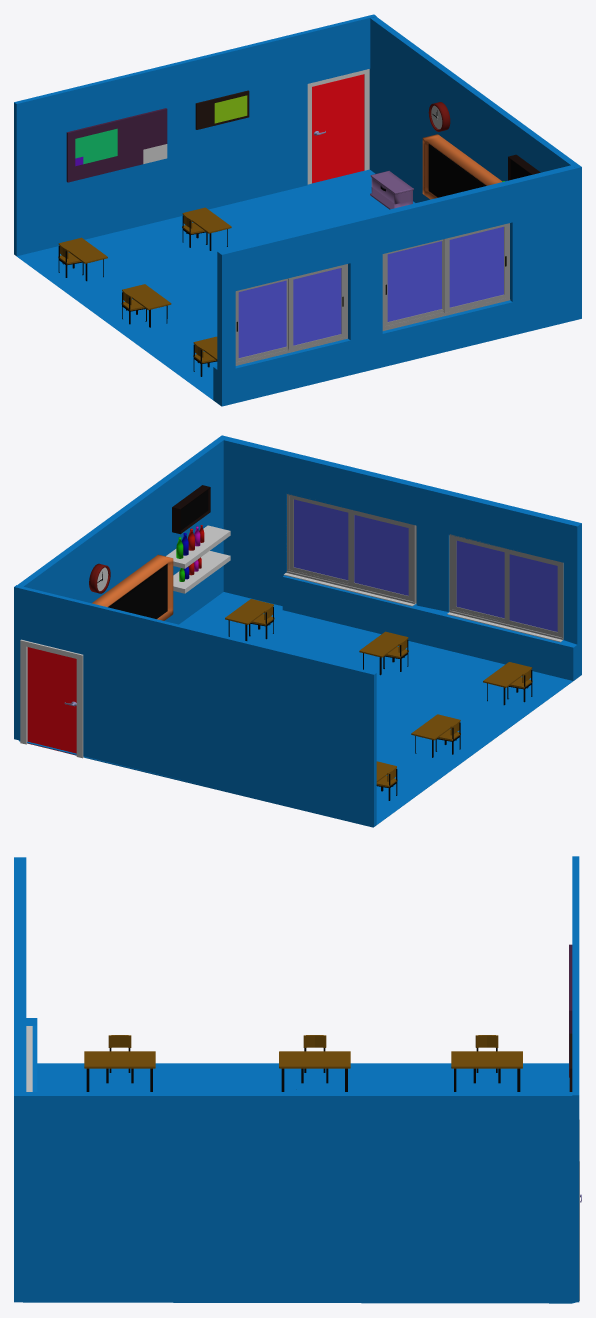
File: CLASSROOM.obj
3 renders of one model, top to bottom at view 1: azimuth 30°, elevation 25°; view 2: azimuth 150°, elevation 25°; view 3: azimuth 270°, elevation 25°, orthographic. The views are drawn at different scales.
Parts seen in each view (by area): view 1: Plane.001, Cube.006_Cube.007, Door, Window.R.001_Window.R.002, Window.L.001_Window.L.002, Window.R_Window.R.001, Cube.001, Window.L_Window.L.001, Cube, Cube.005_Cube.006, DoorFrame_DoorFrane, Cube.007_Cube.008 (+4 smaller); view 2: Plane.001, Cube.001, Window.L.001_Window.L.002, Door, Window.R.001_Window.R.002, Window.L_Window.L.001, Window.R_Window.R.001, Cube, DoorFrame_DoorFrane, WindowFrame.001_WindowFrane.002, Cube.002, WindowFrame_WindowFrane.001 (+3 smaller); view 3: Plane.001, Cube.001.
Part boxes in pixels (left/top/right/bottom): Plane.001: left=14, top=14, right=581, bottom=406; Cube.006_Cube.007: left=66, top=108, right=167, bottom=182; Door: left=312, top=74, right=364, bottom=183; Window.R.001_Window.R.002: left=443, top=224, right=507, bottom=312; Window.L.001_Window.L.002: left=385, top=239, right=443, bottom=325; Window.R_Window.R.001: left=287, top=265, right=344, bottom=350; Cube.001: left=58, top=207, right=231, bottom=376; Window.L_Window.L.001: left=236, top=278, right=287, bottom=361; Cube: left=422, top=134, right=502, bottom=199; Cube.005_Cube.006: left=195, top=90, right=249, bottom=129; DoorFrame_DoorFrane: left=307, top=69, right=369, bottom=184; Cube.007_Cube.008: left=370, top=170, right=413, bottom=209; Plane.001: left=14, top=435, right=581, bottom=827; Cube.001: left=225, top=599, right=532, bottom=800; Window.L.001_Window.L.002: left=348, top=509, right=412, bottom=600; Door: left=27, top=647, right=76, bottom=755; Window.R.001_Window.R.002: left=289, top=496, right=348, bottom=583; Window.L_Window.L.001: left=504, top=549, right=561, bottom=636; Window.R_Window.R.001: left=452, top=537, right=504, bottom=621; Cube: left=92, top=554, right=173, bottom=620; DoorFrame_DoorFrane: left=20, top=639, right=83, bottom=758; WindowFrame.001_WindowFrane.002: left=286, top=494, right=416, bottom=603; Cube.002: left=172, top=485, right=210, bottom=534; WindowFrame_WindowFrane.001: left=449, top=534, right=563, bottom=639; Plane.001: left=14, top=856, right=579, bottom=1303; Cube.001: left=84, top=1035, right=522, bottom=1091.
Bounding box in the file's own units: 40.07 × 16.55 × 40.25.
